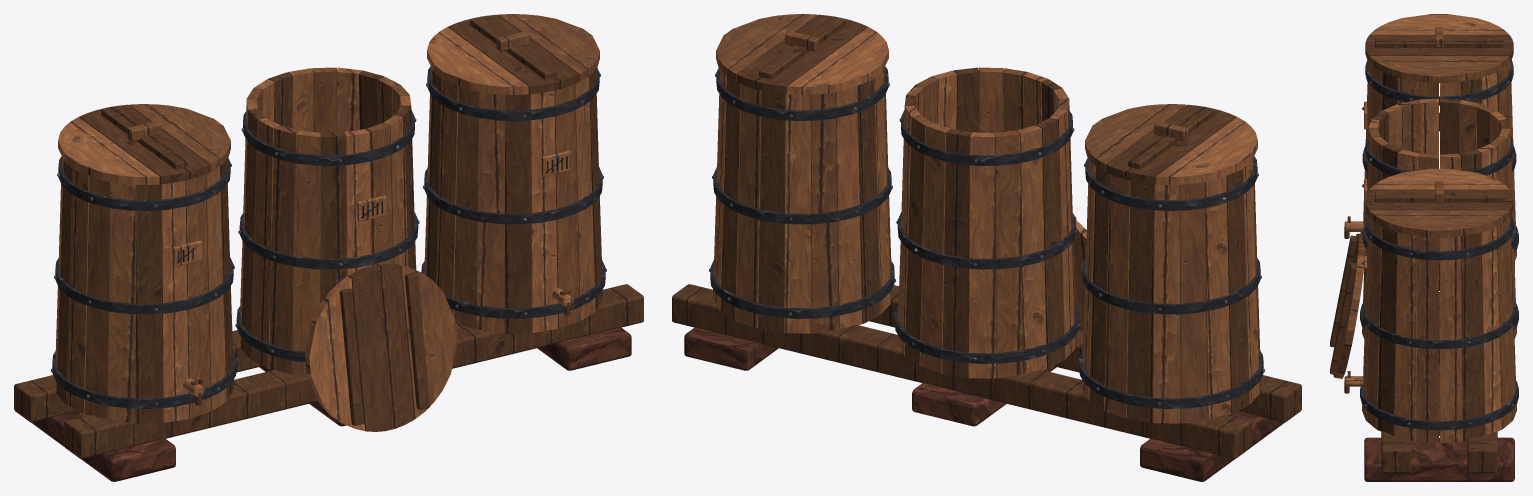
The model's file is rb_fermenting_vats.glb.
The picture shows the model from 3 angles, left to right: view 1: azimuth 30°, elevation 25°; view 2: azimuth 150°, elevation 25°; view 3: azimuth 270°, elevation 25°; orthographic projection. The views are drawn at different scales.
Visible parts, largest first — view 1: model; view 2: model; view 3: model.
Part boxes in pixels (box(x1,y1,x2,y2)): model: box(14, 14, 643, 481); model: box(672, 14, 1301, 481); model: box(1330, 14, 1518, 481).
Bounding box in the file's own units: 2.6 × 1.36 × 0.8781.
9 materials, 8 textured.
